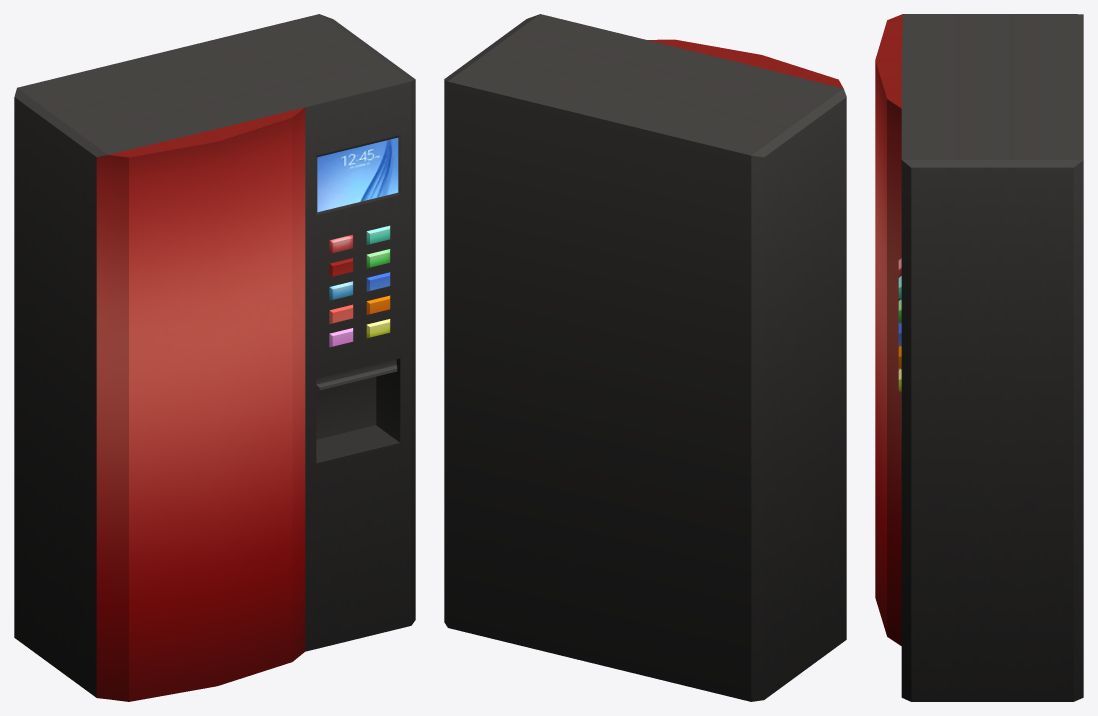
Rendered from VendingMachine_ColdBeverages.fbx.
3 views of the same model, side by side, from view 1: azimuth 30°, elevation 25°; view 2: azimuth 150°, elevation 25°; view 3: azimuth 270°, elevation 25° (orthographic).
Visible parts, largest first — view 1: VendingMachine_ColdBeverages; view 2: VendingMachine_ColdBeverages; view 3: VendingMachine_ColdBeverages.
Part boxes in pixels (<box>): VendingMachine_ColdBeverages: <box>14,14,415,701</box>; VendingMachine_ColdBeverages: <box>444,14,846,701</box>; VendingMachine_ColdBeverages: <box>875,14,1083,701</box>.
Bounding box in the file's own units: 132 × 215 × 75.54.
